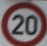20 km speed: (1, 1, 47, 45)
